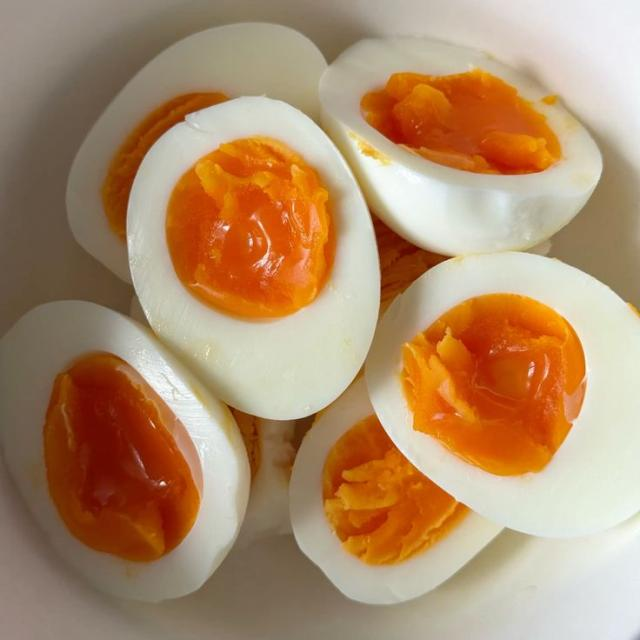egg boiled: (128, 98, 379, 419), (366, 253, 639, 536), (67, 23, 326, 281), (320, 38, 601, 255), (290, 378, 501, 604), (44, 353, 200, 560)
